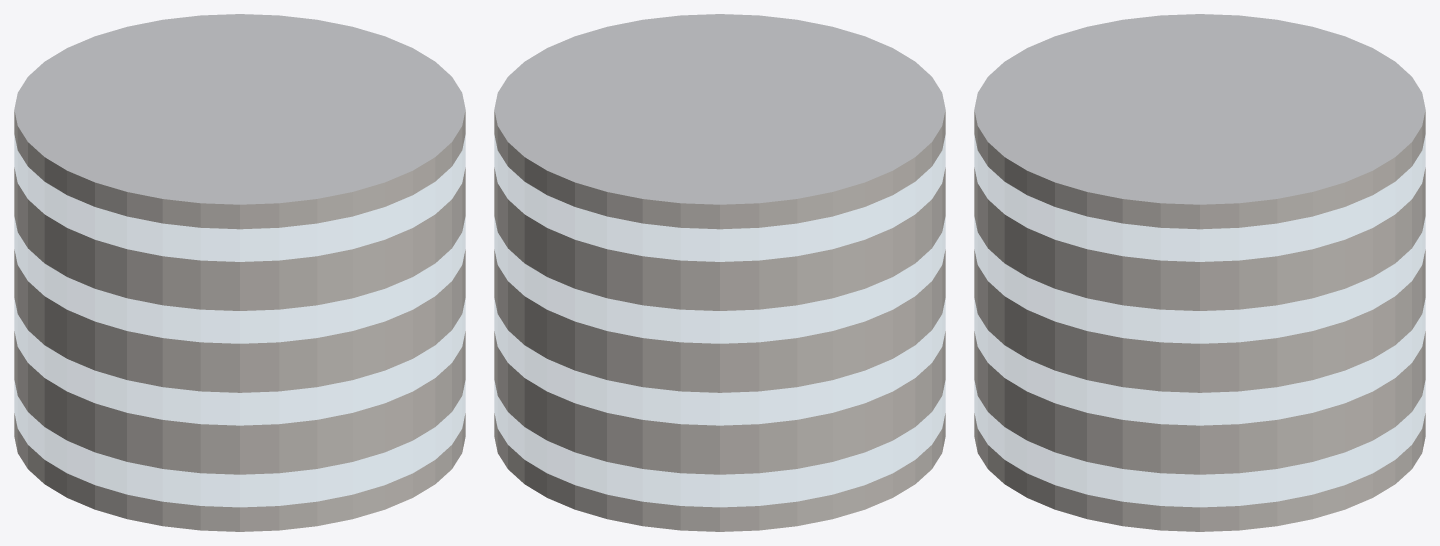
3 views of the same model, side by side, from view 1: azimuth 30°, elevation 25°; view 2: azimuth 150°, elevation 25°; view 3: azimuth 270°, elevation 25° (orthographic).
Parts seen in each view (by area): view 1: Dinding Bata, Atap Beton, Kaca Jendela; view 2: Dinding Bata, Atap Beton, Kaca Jendela; view 3: Dinding Bata, Atap Beton, Kaca Jendela.
Boxes of the visible parts, left/top/right/bottom form: Dinding Bata: left=14, top=110, right=465, bottom=531; Atap Beton: left=14, top=14, right=465, bottom=204; Kaca Jendela: left=14, top=136, right=465, bottom=506; Dinding Bata: left=494, top=110, right=945, bottom=531; Atap Beton: left=494, top=14, right=945, bottom=204; Kaca Jendela: left=494, top=136, right=945, bottom=506; Dinding Bata: left=974, top=110, right=1425, bottom=531; Atap Beton: left=974, top=14, right=1425, bottom=204; Kaca Jendela: left=974, top=136, right=1425, bottom=506.
Size of the model in its own units: 20 by 16 by 20.
